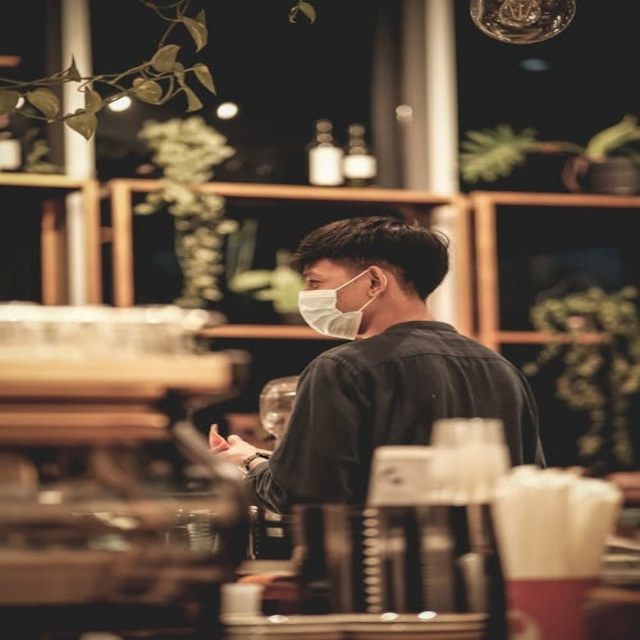Mascara: (297, 268, 376, 339)
Sin_gafas: (300, 267, 343, 288)
Sin_guantes: (208, 422, 265, 468)
